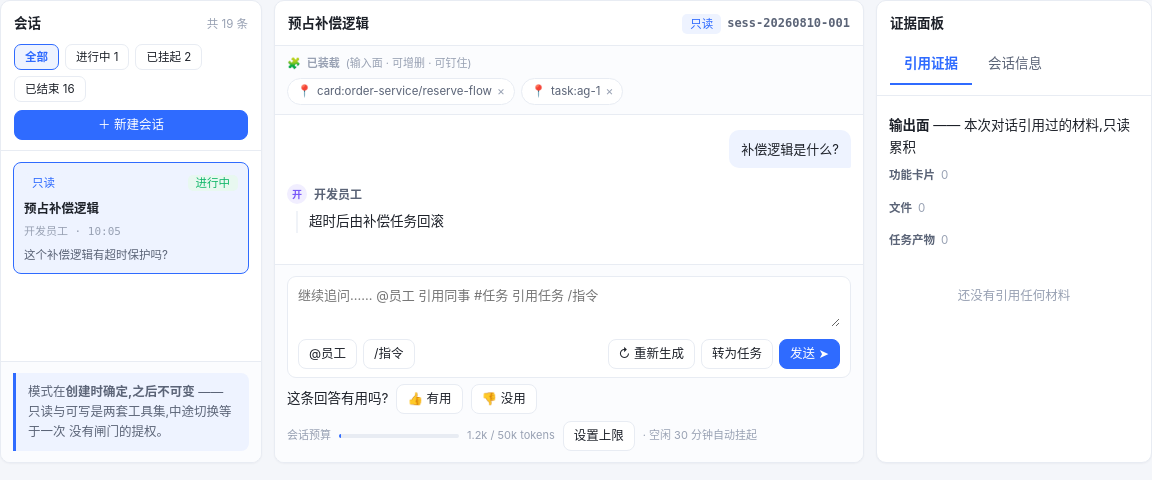
Scenario: 反馈进化 › does not touch hits itself — the backend does the accounting
The image size is (1152, 480).
Expected: the text "超时后由补偿任务回滚" is shown, [309,213,444,229]
Click the button "👎 没用": (504, 399) [470,384,537,414]
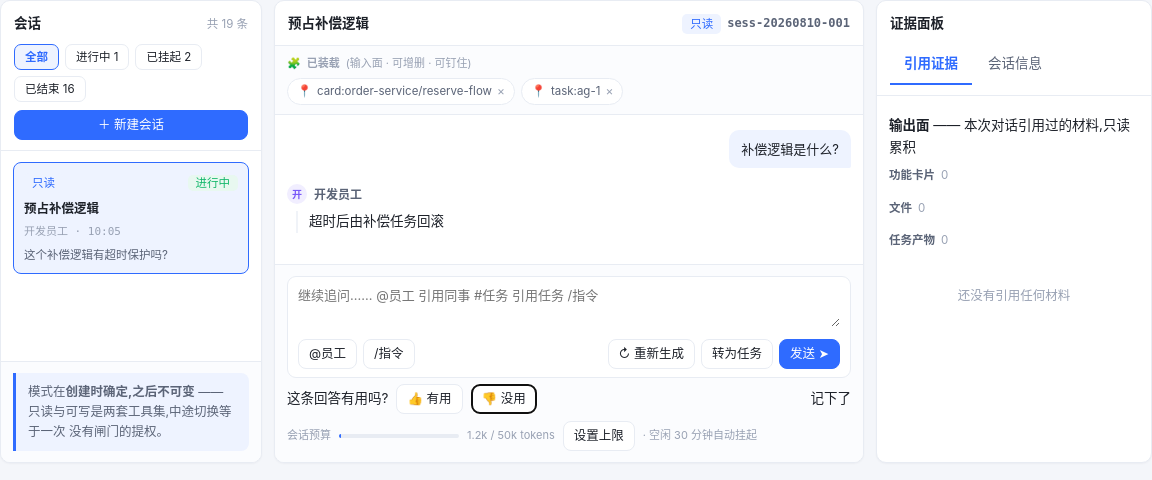
Expected: the text "记下了" is shown, [810,388,851,410]
